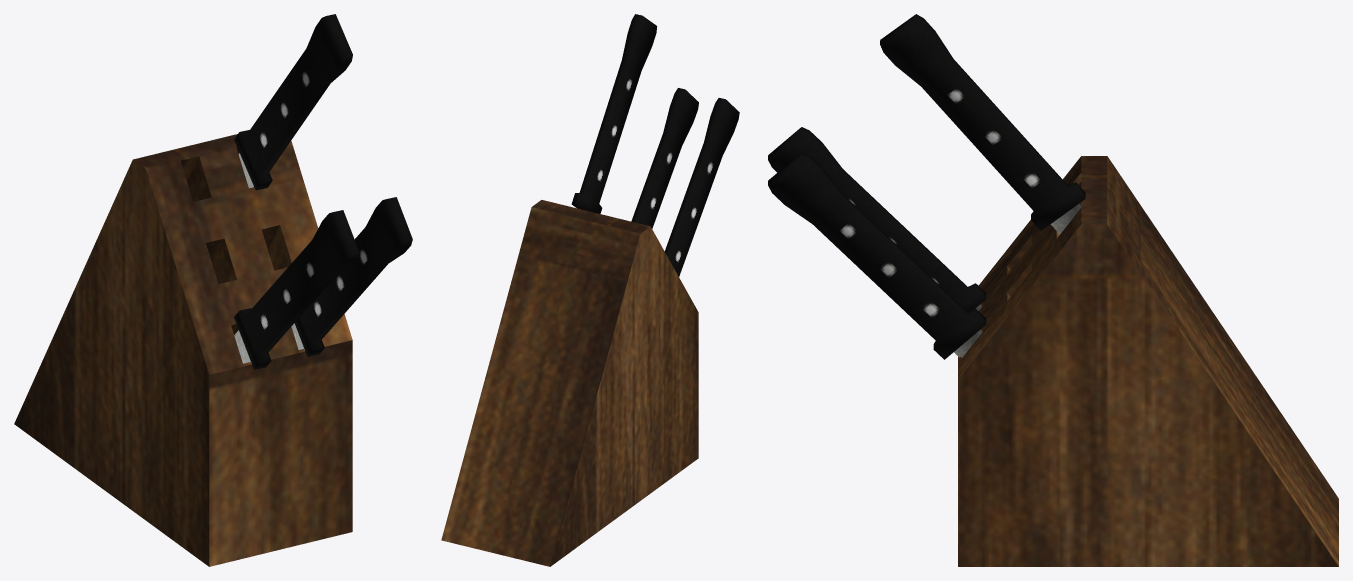
The model's file is knife_block.obj.
3 views of the same model, side by side, from view 1: azimuth 30°, elevation 25°; view 2: azimuth 150°, elevation 25°; view 3: azimuth 270°, elevation 25° (orthographic). The views are drawn at different scales.
Visible parts, largest first — view 1: knife_block; view 2: knife_block; view 3: knife_block.
Part boxes in pixels (left/top/right/bottom): knife_block: left=14, top=14, right=412, bottom=566; knife_block: left=441, top=14, right=739, bottom=566; knife_block: left=768, top=14, right=1338, bottom=566.
Bounding box in the file's own units: 0.1217 × 0.441 × 0.4304.
